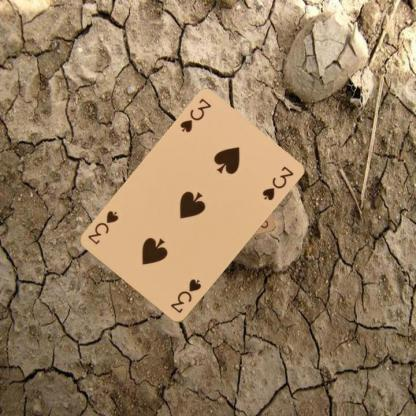3s: (167, 276, 202, 316), (176, 96, 212, 134)
